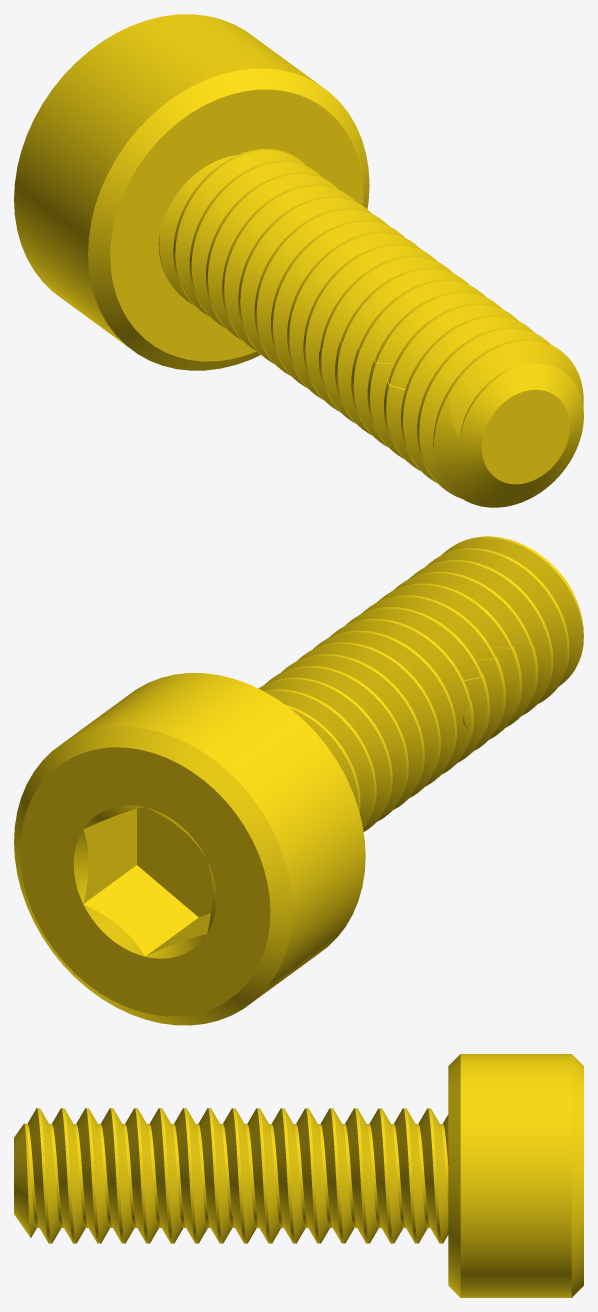
The picture shows the model from 3 angles, top to bottom: view 1: azimuth 30°, elevation 25°; view 2: azimuth 150°, elevation 25°; view 3: azimuth 270°, elevation 25°; orthographic projection. The views are drawn at different scales.
Visible parts, largest first — view 1: mesh9931, mesh9935, mesh9933, mesh9934, mesh9911, mesh9909, mesh9908, mesh9932, mesh9915, mesh9927, mesh9919, mesh9923 (+5 smaller); view 2: mesh9937, mesh9935, mesh9929, mesh9936, mesh9913, mesh9946, mesh9942, mesh9932, mesh9944, mesh9917, mesh9925, mesh9921 (+8 smaller); view 3: mesh9935, mesh9929, mesh9931, mesh9932, mesh9930, mesh9913, mesh9911, mesh9936, mesh9934, mesh9910, mesh9909, mesh9917 (+15 smaller).
Part boxes in pixels (x1,y1,x2,y2): mesh9931: (159,150,453,411); mesh9935: (14,14,318,348); mesh9933: (110,89,363,361); mesh9934: (88,68,369,370); mesh9911: (391,317,583,498); mesh9909: (434,363,583,507); mesh9908: (482,389,569,484); mesh9932: (158,149,441,405); mesh9915: (379,305,518,459); mesh9927: (324,269,469,423); mesh9919: (364,293,501,447); mesh9923: (345,281,485,435); mesh9937: (20,747,270,1016); mesh9935: (65,673,365,1004); mesh9929: (259,608,480,831); mesh9936: (14,726,292,1025); mesh9913: (409,538,583,727); mesh9946: (137,807,212,917); mesh9942: (83,865,198,956); mesh9932: (259,618,471,830); mesh9944: (83,809,136,903); mesh9917: (393,573,529,739); mesh9925: (361,596,493,762); mesh9921: (377,585,510,751); mesh9935: (460,1054,571,1297); mesh9929: (187,1109,448,1243); mesh9931: (198,1108,448,1242); mesh9932: (208,1108,442,1243); mesh9930: (196,1124,448,1227); mesh9913: (24,1109,109,1243); mesh9911: (27,1108,96,1242); mesh9936: (571,1054,583,1297); mesh9934: (448,1054,460,1297); mesh9910: (37,1108,100,1243); mesh9909: (14,1123,30,1237); mesh9917: (114,1110,134,1243).
Bounding box in the file's own units: 0.0045 × 0.00449 × 0.0105.
